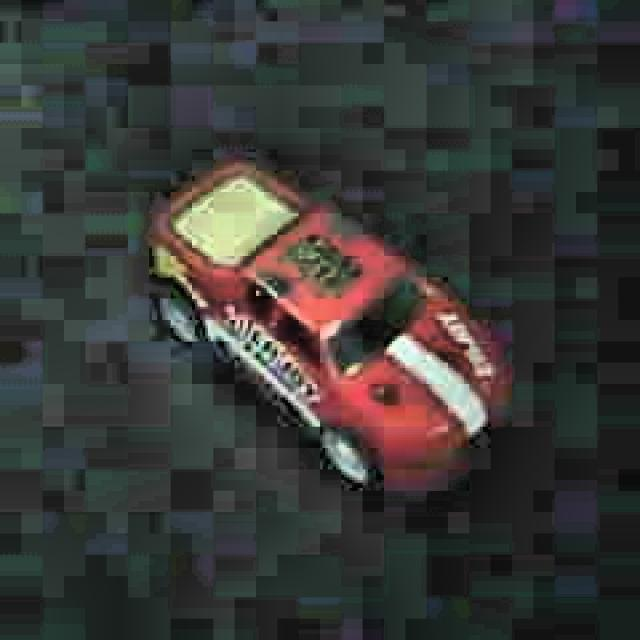car: (141, 152, 512, 497)
